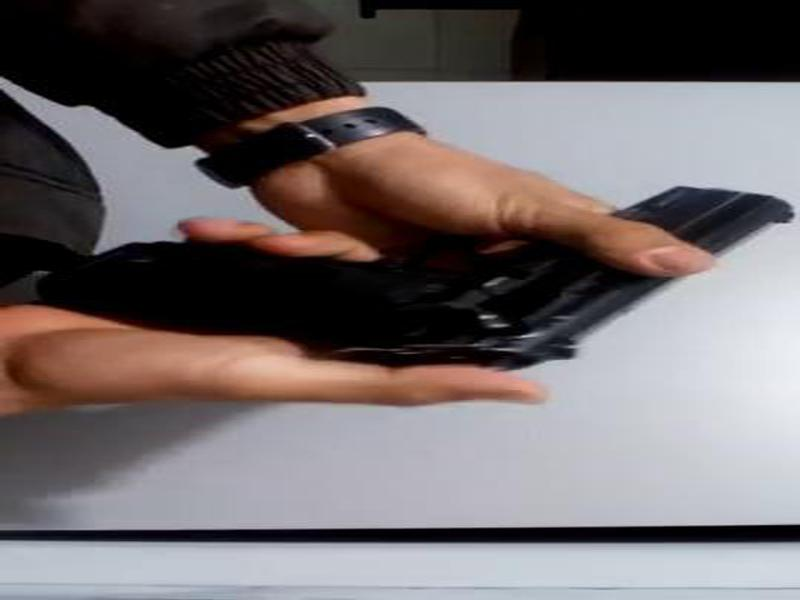Pistola: (34, 157, 800, 396)
